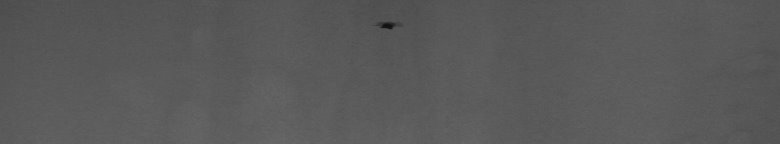fi: (373, 12, 403, 36)
